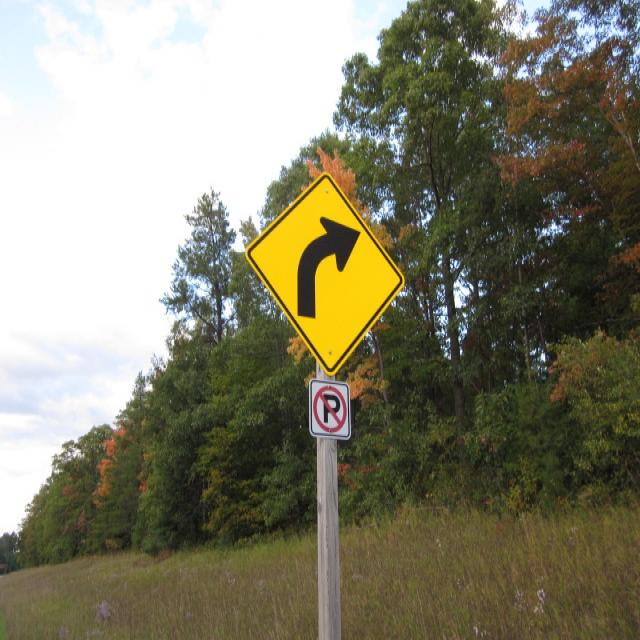regulatory: (307, 376, 356, 445)
warning: (244, 171, 404, 370)
